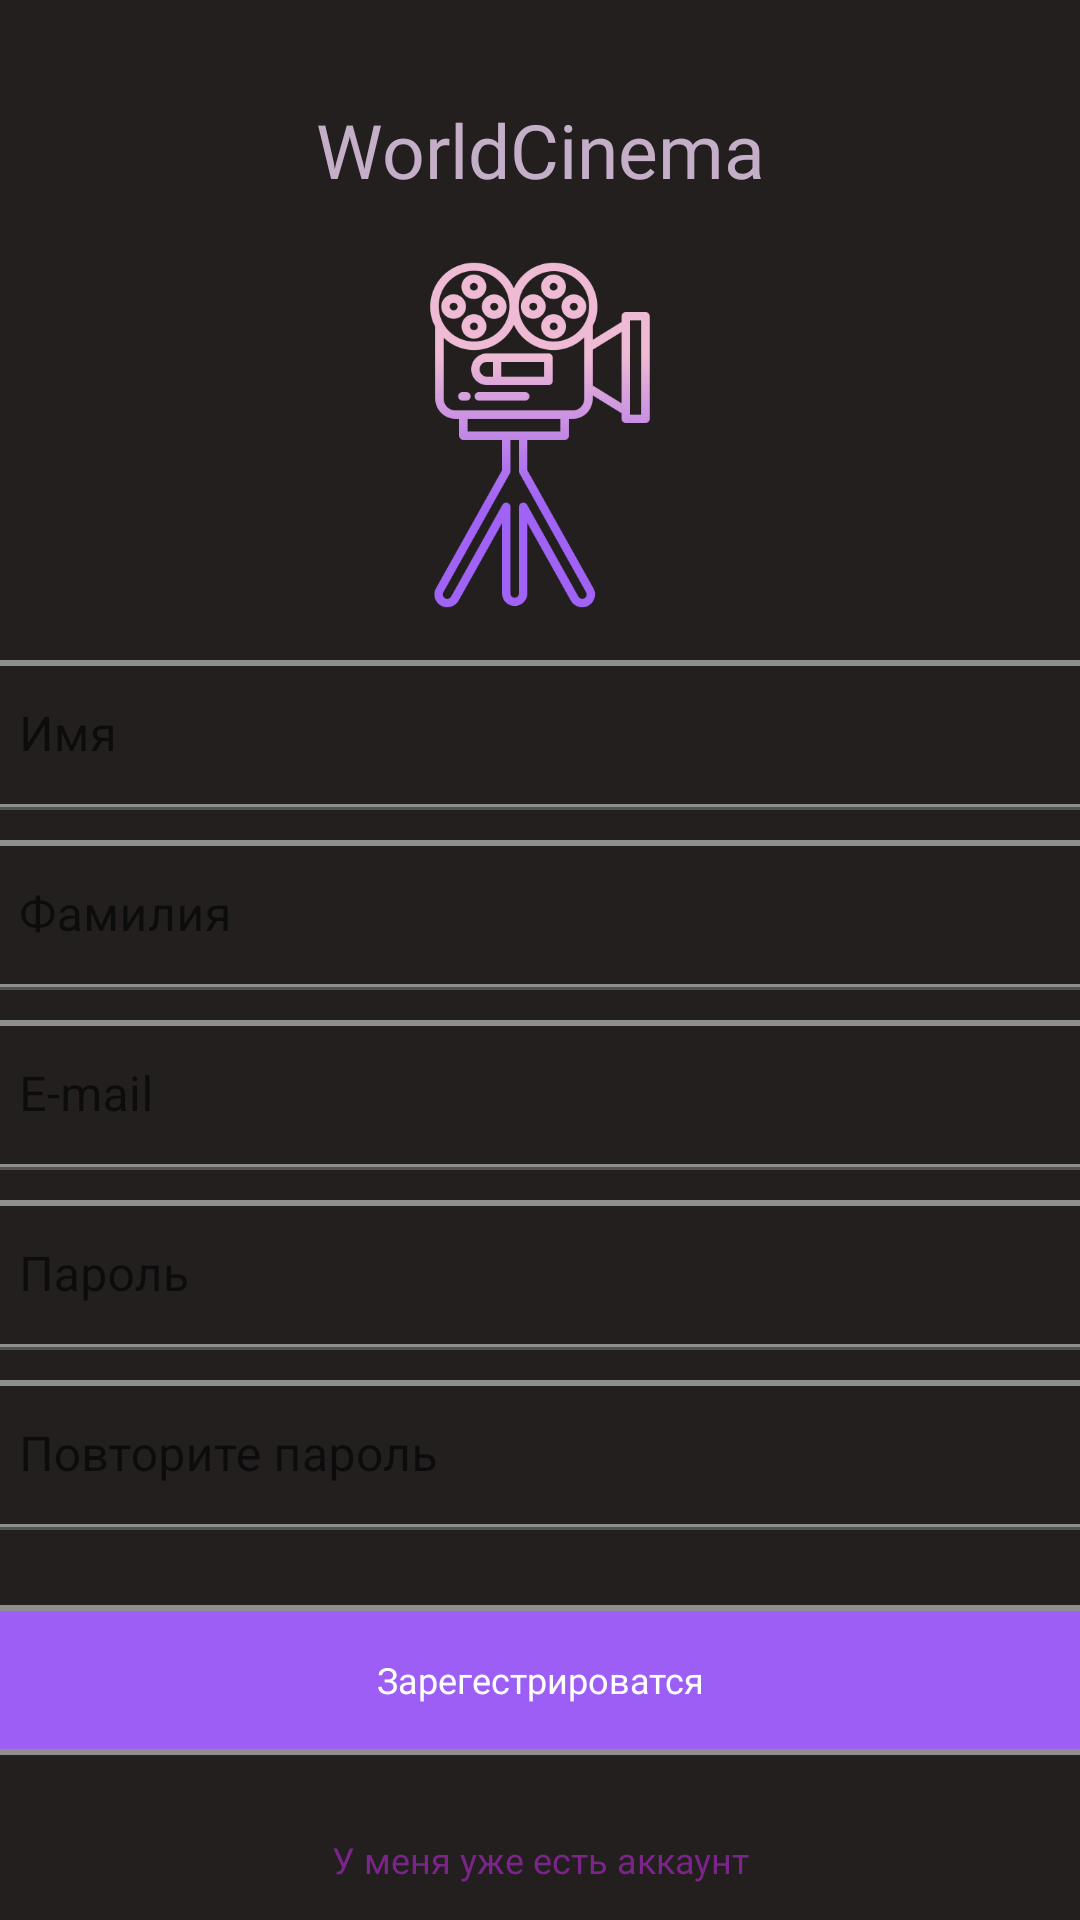

Icons on this 1080x1920 Android screen, each with the point to tap as point (x, y):
cam: point (540, 435)
